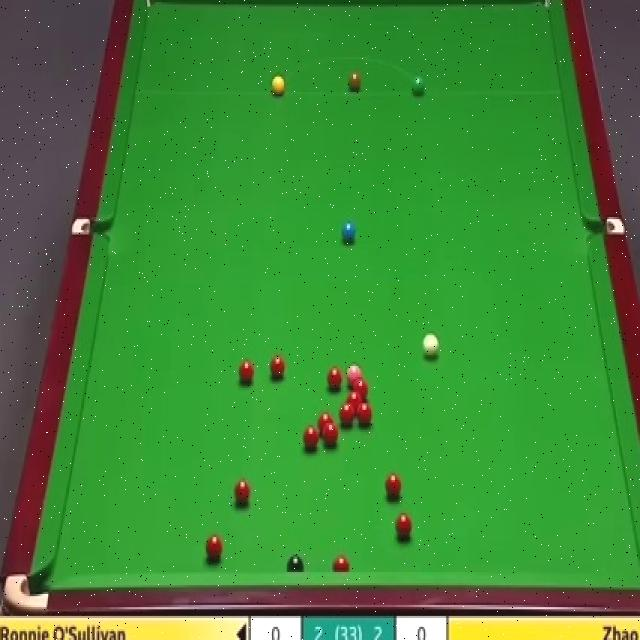black-ball: (285, 552, 302, 574)
blue-ball: (341, 222, 355, 245)
brown-ball: (349, 74, 362, 94)
green-ball: (412, 75, 429, 96)
pink-ball: (345, 361, 362, 378)
red-ball: (205, 533, 224, 563), (395, 510, 413, 540), (301, 424, 320, 452), (385, 473, 402, 502), (233, 478, 250, 506), (237, 358, 254, 386), (322, 422, 340, 448), (269, 354, 286, 380), (333, 554, 352, 575), (357, 404, 373, 426), (339, 404, 354, 427), (327, 366, 342, 389), (352, 379, 368, 396), (317, 412, 334, 427), (347, 391, 363, 405)
white-ball: (421, 331, 440, 358)
yellow-ball: (271, 73, 286, 95)
